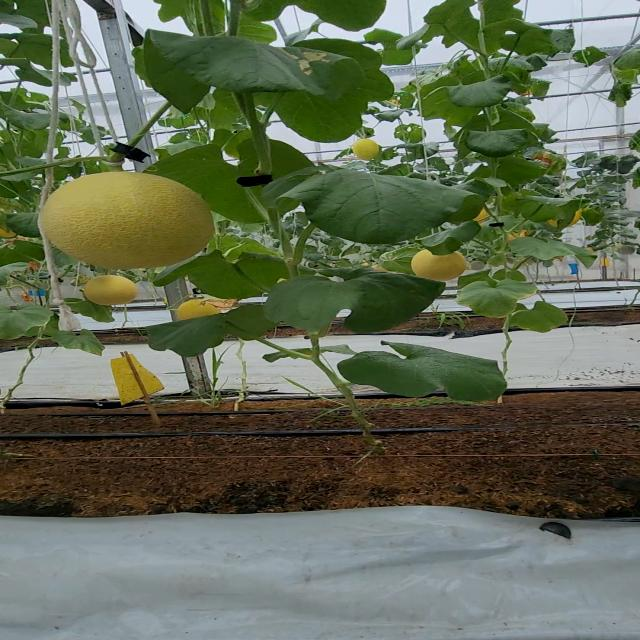Melon: (39, 168, 229, 274)
